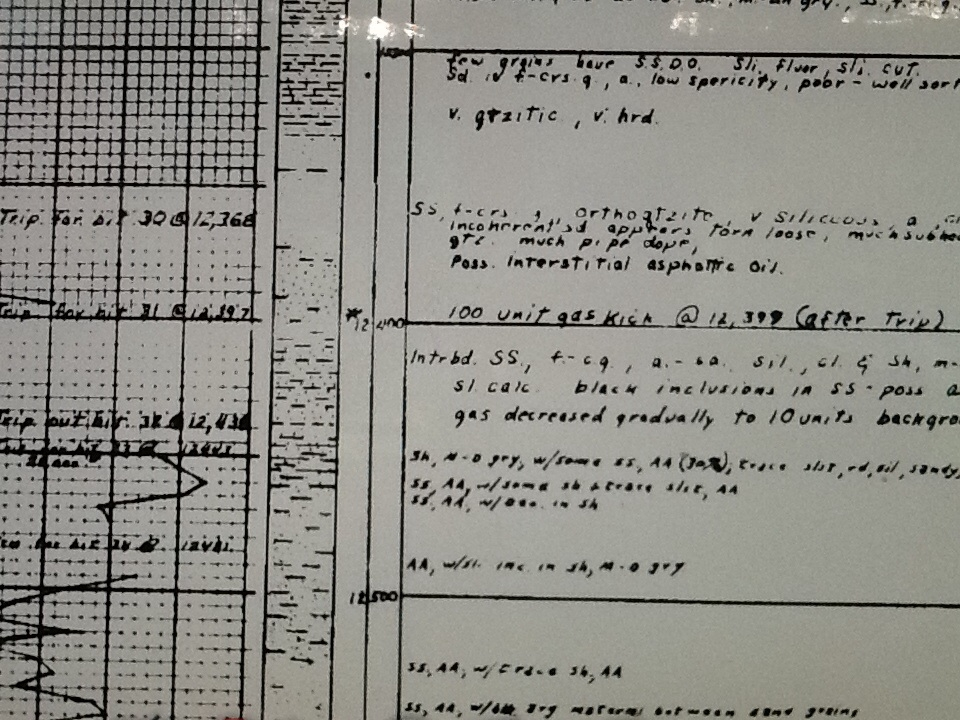fracking table: (370, 1, 960, 720)
